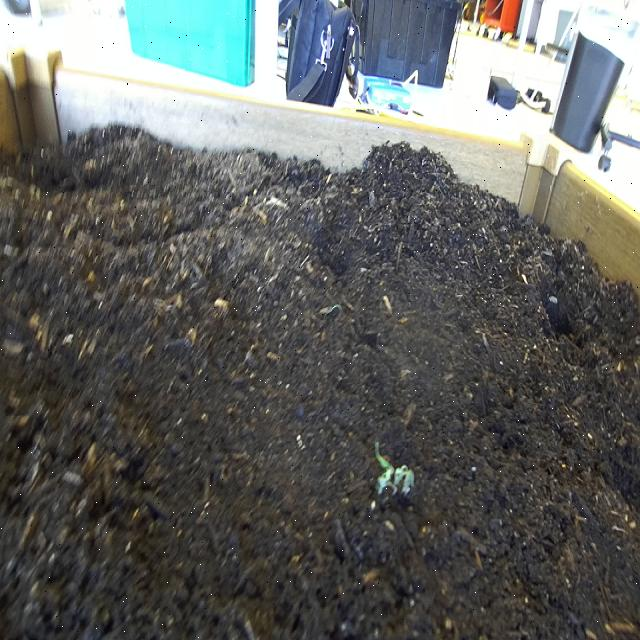Unhealthy: (373, 436, 417, 504)
